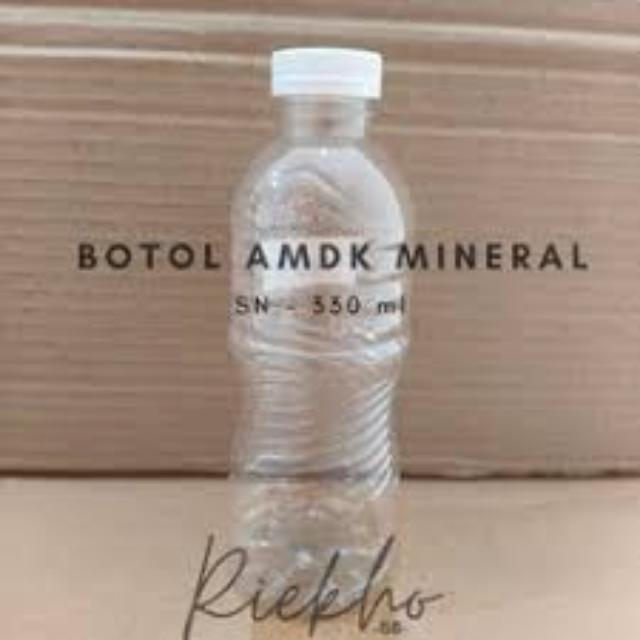trash: (208, 42, 422, 628)
